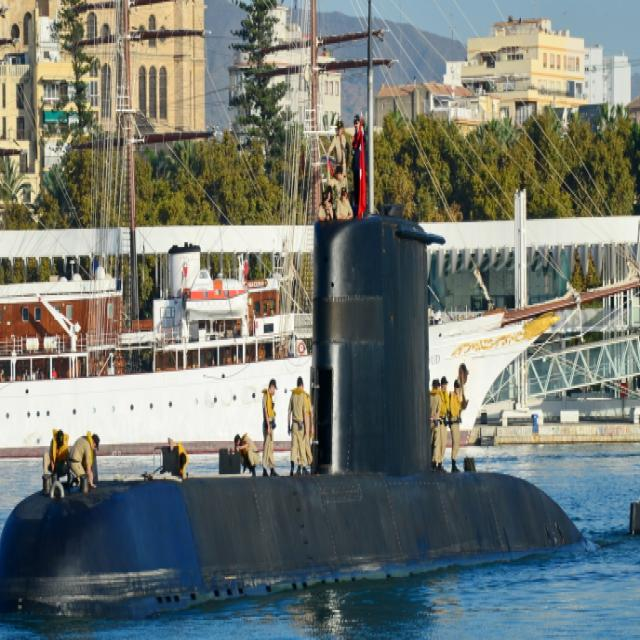submarine: (1, 218, 640, 631)
